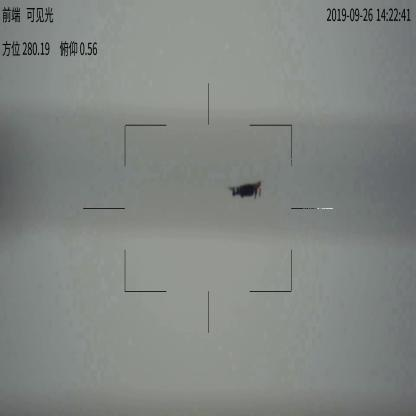uav: (224, 178, 266, 204)
